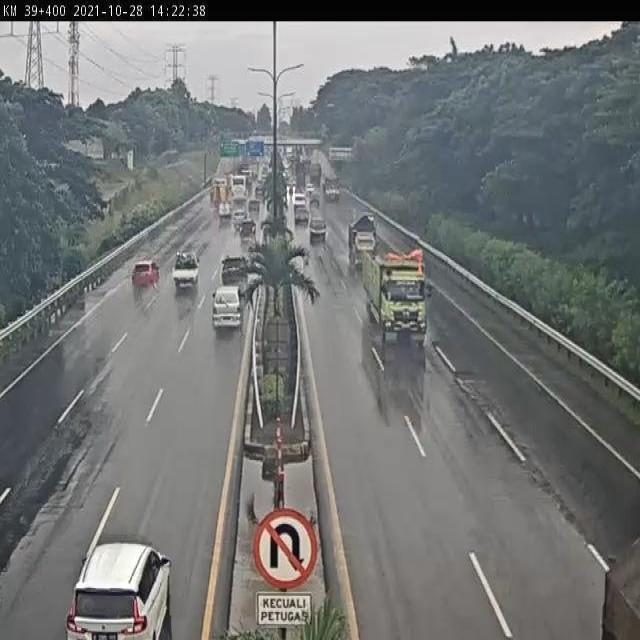Bus: (230, 174, 248, 202)
Car: (66, 540, 172, 636), (211, 285, 243, 330), (172, 250, 200, 290), (220, 255, 250, 286), (132, 259, 161, 289), (309, 216, 327, 242), (238, 218, 256, 244), (305, 182, 315, 196)
Truck: (363, 249, 428, 346), (348, 214, 378, 262), (324, 176, 340, 202)
